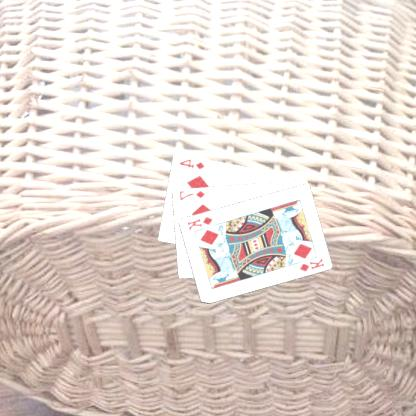4D: (178, 156, 208, 171)
7D: (178, 188, 208, 201)
KD: (186, 214, 216, 232), (298, 255, 327, 273)
